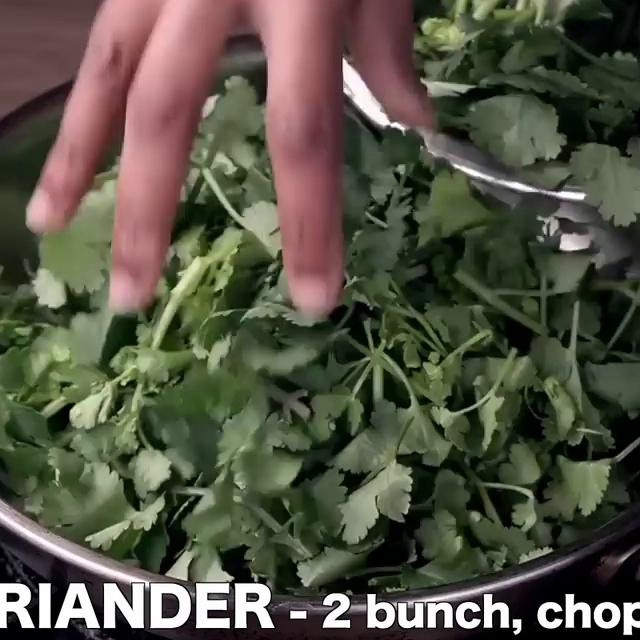cilantro: (1, 315, 640, 566), (437, 0, 640, 163)
